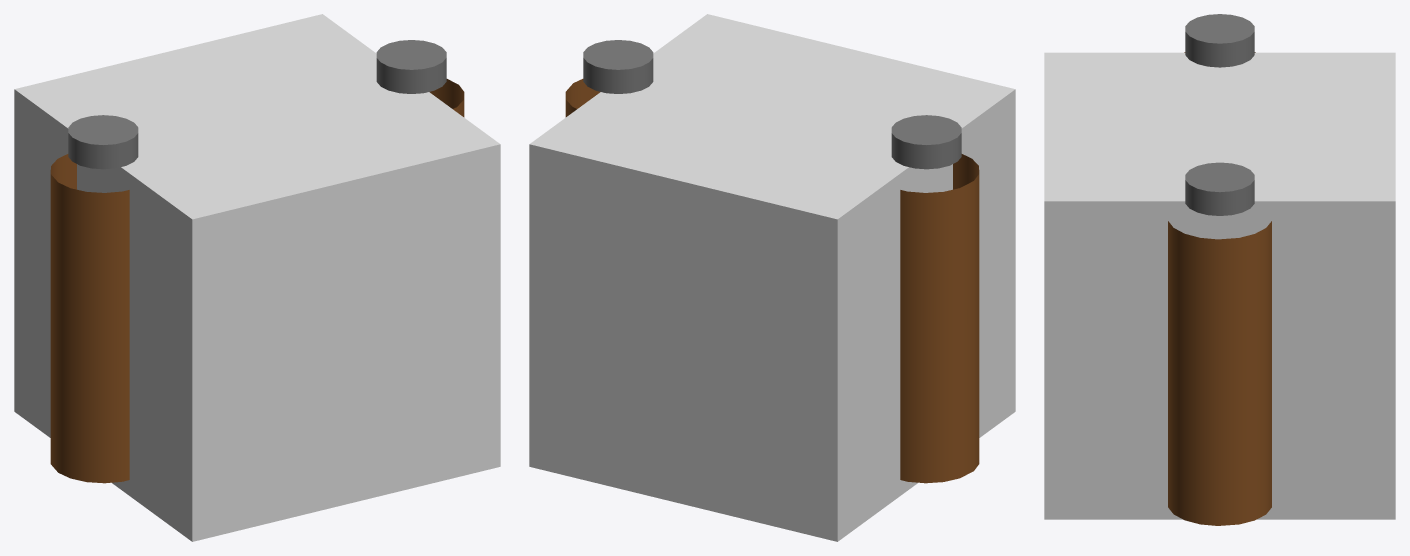
File: machinegunHandle.fbx
3 renders of one model, left to right at view 1: azimuth 30°, elevation 25°; view 2: azimuth 150°, elevation 25°; view 3: azimuth 270°, elevation 25°, orthographic.
Visible parts, largest first — view 1: Коллизия, Основание; view 2: Коллизия, Основание; view 3: Коллизия, Основание.
Part boxes in pixels (x1,y1,x2,y2): Коллизия: (14, 14, 500, 541); Основание: (50, 40, 464, 483); Коллизия: (529, 14, 1015, 541); Основание: (565, 40, 979, 483); Коллизия: (1044, 52, 1395, 519); Основание: (1168, 14, 1271, 525).
Bounding box in the file's own units: 130 × 107 × 100.
